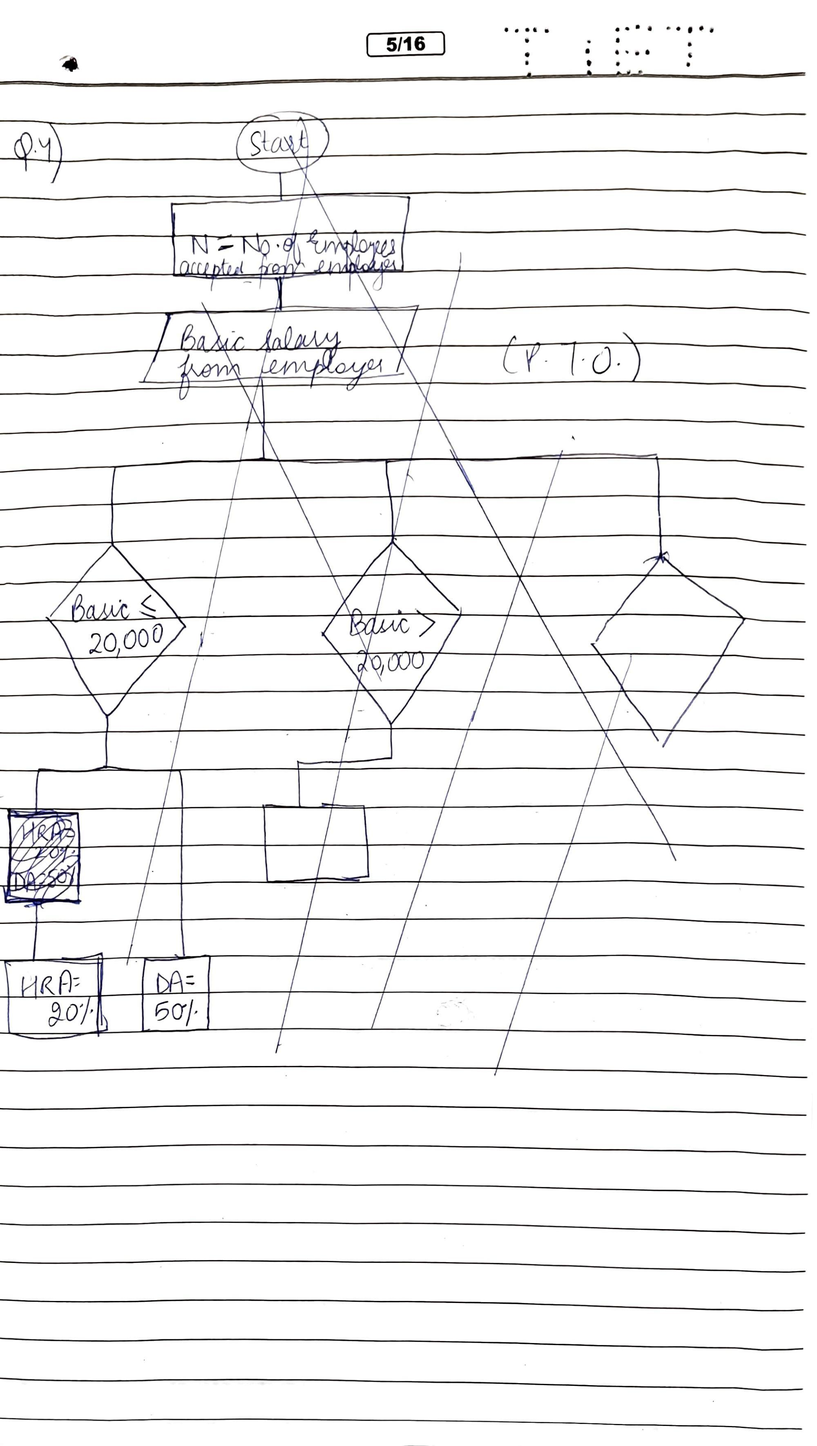cuttings: (2, 108, 759, 1061)
